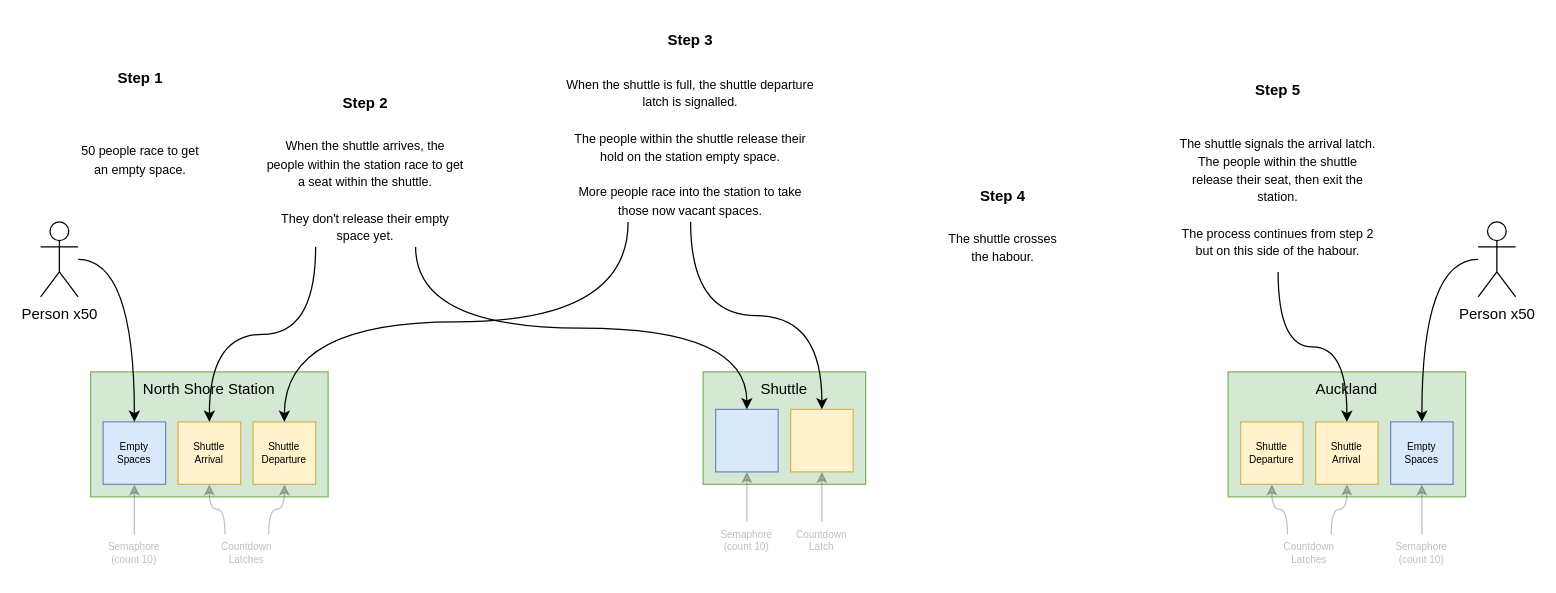
Image size: 1556x593. Some labels were removed from this diagram. Here are the shapes that lost their labels. From the top down, the centre of each, then its label:
pixel 746 440: Empty Seats
pixel 821 440: Shuttle Full
